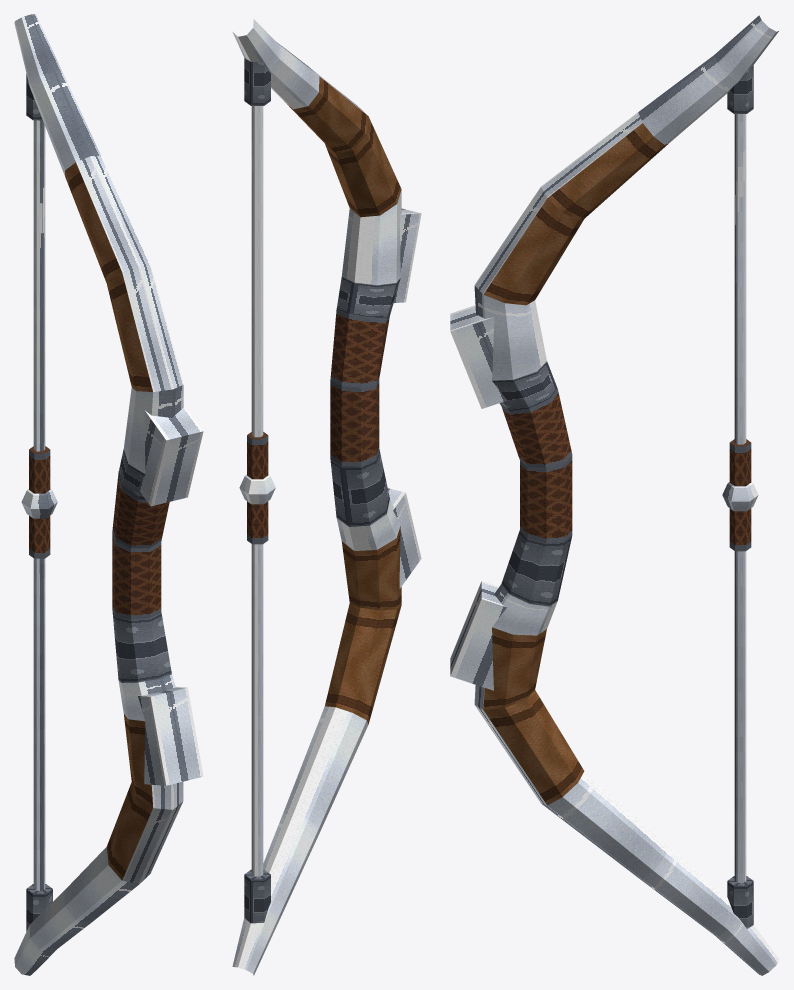
The model's file is arco_de_prata.glb.
3 renders of one model, left to right at view 1: azimuth 30°, elevation 25°; view 2: azimuth 150°, elevation 25°; view 3: azimuth 270°, elevation 25°, orthographic.
Parts seen in each view (by area): view 1: arco_de_prata; view 2: arco_de_prata; view 3: arco_de_prata.
Part boxes in pixels (x1,y1,x2,y2): arco_de_prata: [14, 14, 203, 975]; arco_de_prata: [232, 19, 421, 975]; arco_de_prata: [450, 15, 779, 975].
Size of the model in its own units: 0.07 by 1.28 by 0.3981.
1 material, 1 textured.
